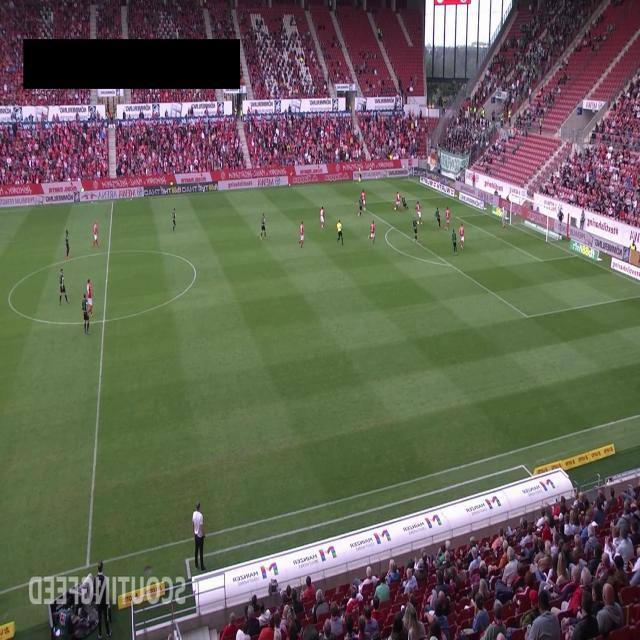ball: (394, 207, 396, 211)
goalkeeper: (501, 205, 506, 229)
player: (82, 293, 92, 334), (59, 268, 69, 306), (86, 278, 93, 316), (91, 221, 100, 247), (368, 220, 376, 245), (260, 212, 266, 241), (415, 200, 422, 224), (452, 228, 458, 255), (395, 191, 403, 211), (412, 217, 418, 242), (65, 230, 70, 259), (360, 188, 366, 212), (299, 220, 304, 248), (459, 222, 464, 249), (435, 206, 441, 228), (445, 206, 450, 231), (172, 208, 176, 232), (402, 195, 408, 211), (357, 198, 362, 217), (320, 206, 324, 229)
referee: (336, 218, 343, 244), (358, 166, 362, 183)
